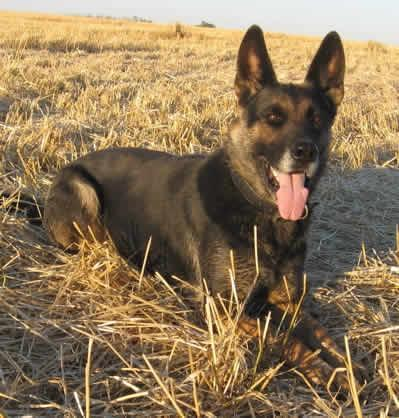German_shepherd: (42, 25, 371, 402)
